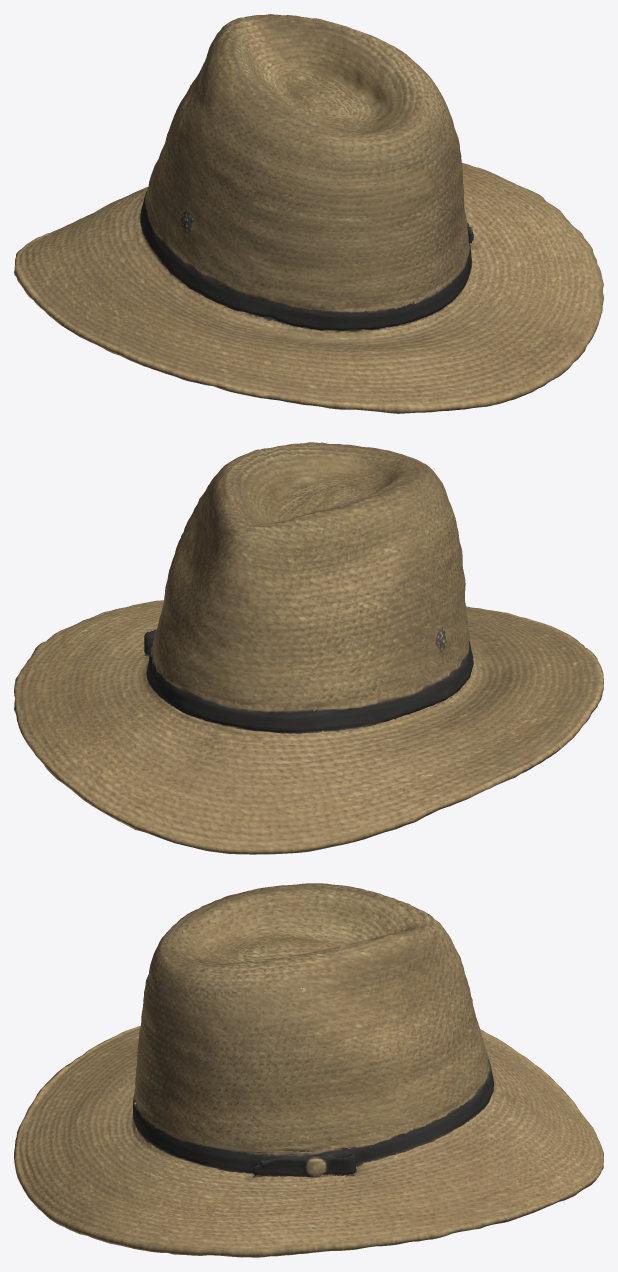
The model's file is hat2.glb.
3 views of the same model, one above another, from view 1: azimuth 30°, elevation 25°; view 2: azimuth 150°, elevation 25°; view 3: azimuth 270°, elevation 25° (orthographic). The views are drawn at different scales.
Visible parts, largest first — view 1: HK_Hat_Two_Hina_03v01HK_Hat_Two_Hina_Remesh1_1; view 2: HK_Hat_Two_Hina_03v01HK_Hat_Two_Hina_Remesh1_1; view 3: HK_Hat_Two_Hina_03v01HK_Hat_Two_Hina_Remesh1_1.
Part boxes in pixels (x1=…): HK_Hat_Two_Hina_03v01HK_Hat_Two_Hina_Remesh1_1: x1=14, y1=14, x2=603, y2=413; HK_Hat_Two_Hina_03v01HK_Hat_Two_Hina_Remesh1_1: x1=14, y1=442, x2=603, y2=854; HK_Hat_Two_Hina_03v01HK_Hat_Two_Hina_Remesh1_1: x1=14, y1=883, x2=603, y2=1257.
Size of the model in its own units: 33.57 by 16.39 by 35.2.
1 material, 1 textured.
